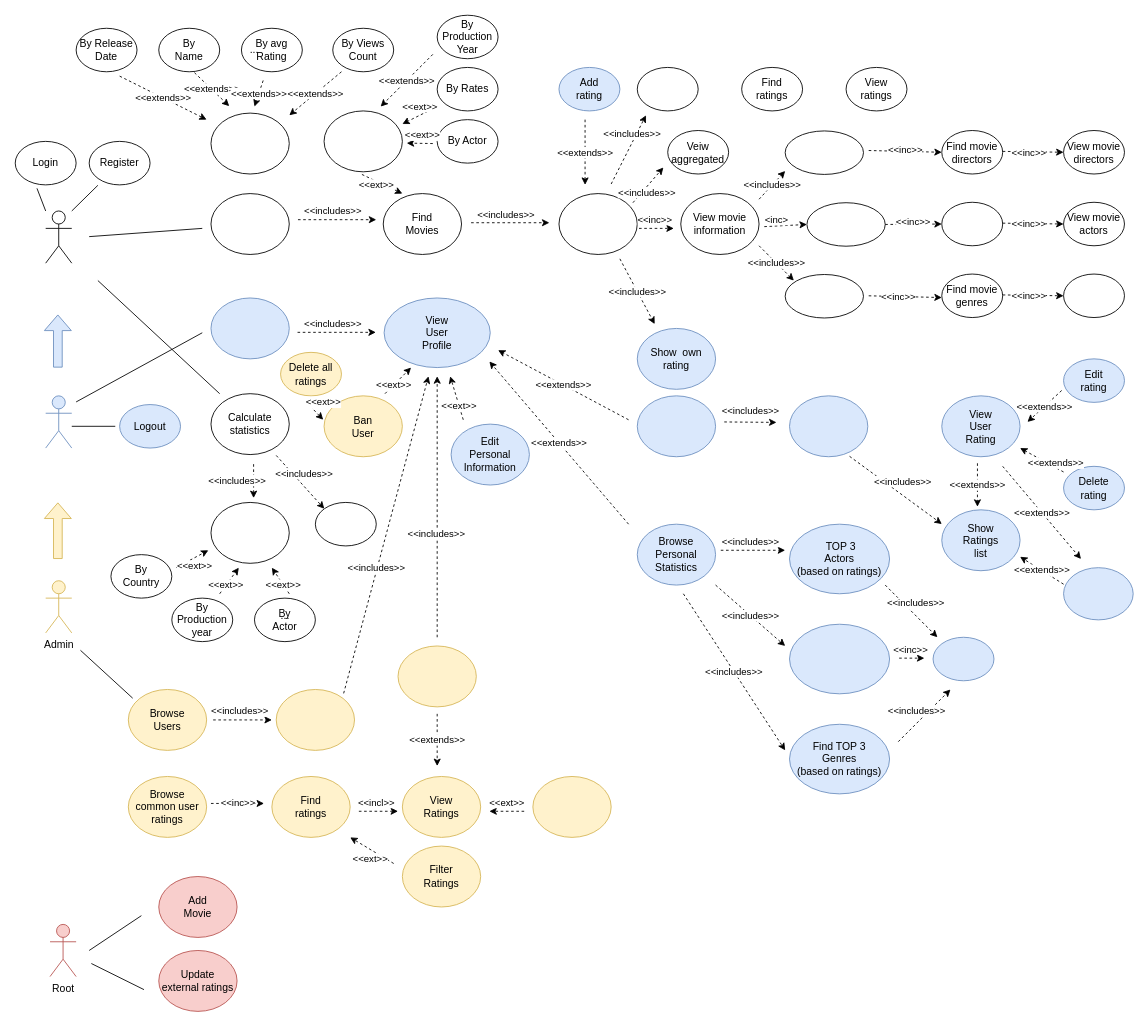
Some shapes in this 1148 by 1027 pixel diagram are drawn without their labels. The centre of each missing label's shape, as x and y in pixels:
Aggregate Movies: (249,532)
Anonymous User: (58,236)
Browse movie actors: (845,224)
Browse movie directors: (823,152)
Browse movie genres: (823,296)
Browse Movies: (249,223)
Browse rating: (667,89)
Browse User Rating History: (676,426)
Delete Ratings: (571,806)
Filter Movies: (362,141)
Find movie actors: (972,223)
Find TOP 3 Directors (based on ratings): (839,658)
Find User Profile: (436,676)
Find User Ratings: (828,426)
Find Users: (315,719)
Show Personal Profile: (249,328)
Show Rated Movie list: (1098,593)
Show results: (963,658)
Sort Aggregates: (345,524)
Sort Movies: (249,143)
User: (58,421)
View Movie: (597,223)
View movie genres: (1093,295)
